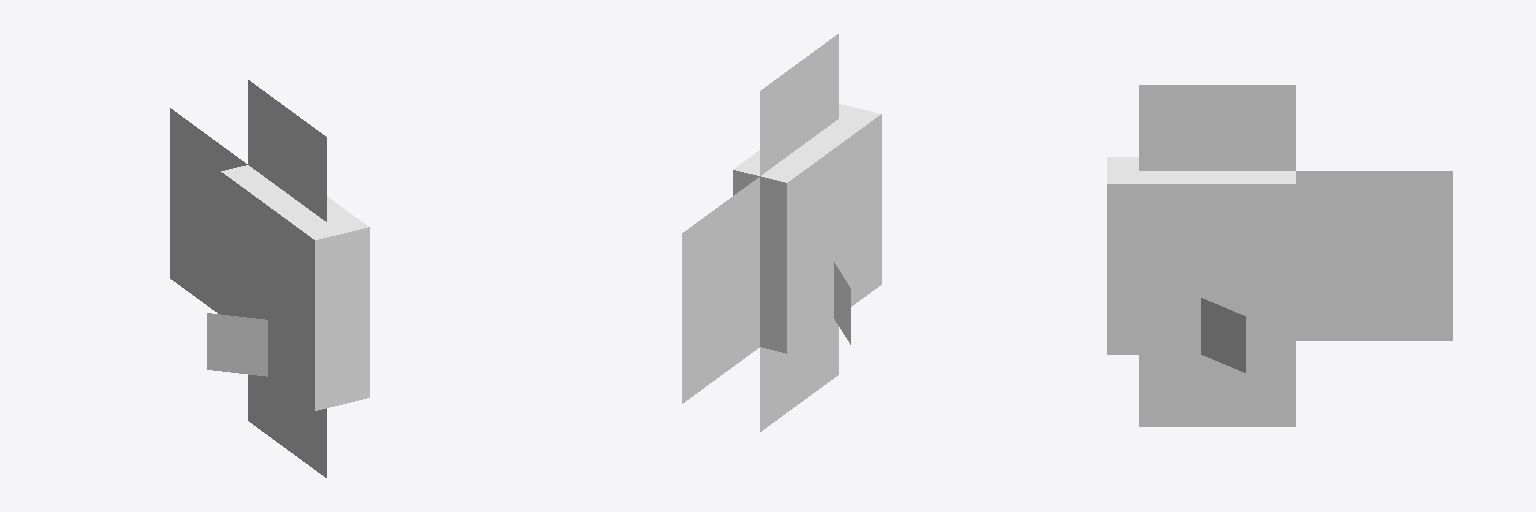
File: TropicalBigBody.obj
The picture shows the model from 3 angles: view 1: azimuth 30°, elevation 25°; view 2: azimuth 150°, elevation 25°; view 3: azimuth 270°, elevation 25°; orthographic projection.
Visible parts, largest first — view 1: TropicalBigBody; view 2: TropicalBigBody; view 3: TropicalBigBody.
Part boxes in pixels (left/top/right/bottom): TropicalBigBody: left=170, top=80, right=369, bottom=477; TropicalBigBody: left=682, top=34, right=881, bottom=431; TropicalBigBody: left=1107, top=85, right=1452, bottom=426.
Size of the model in its own units: 4.83 by 12 by 11.